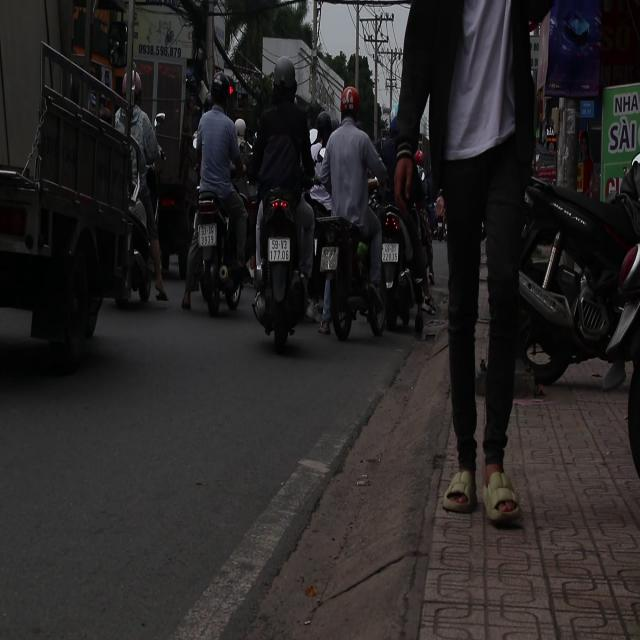motorbike: (314, 197, 381, 352), (260, 166, 310, 372), (377, 172, 434, 332), (194, 172, 244, 334)
truck: (1, 18, 162, 380)
